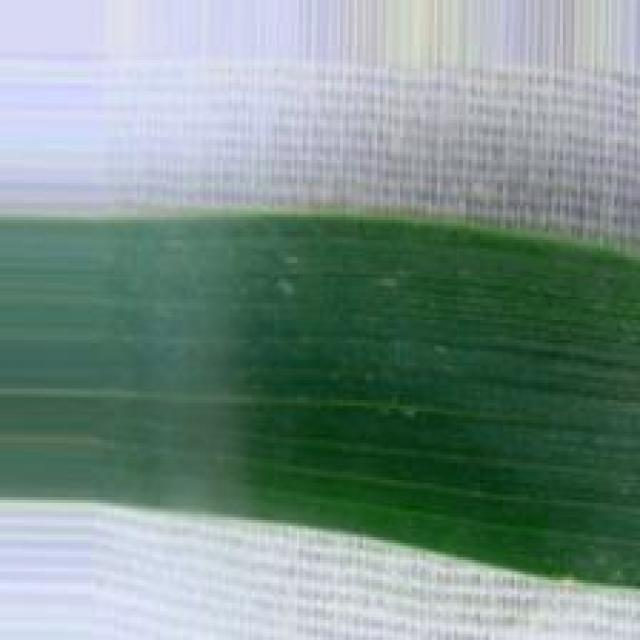Healthy: (0, 211, 640, 593)
